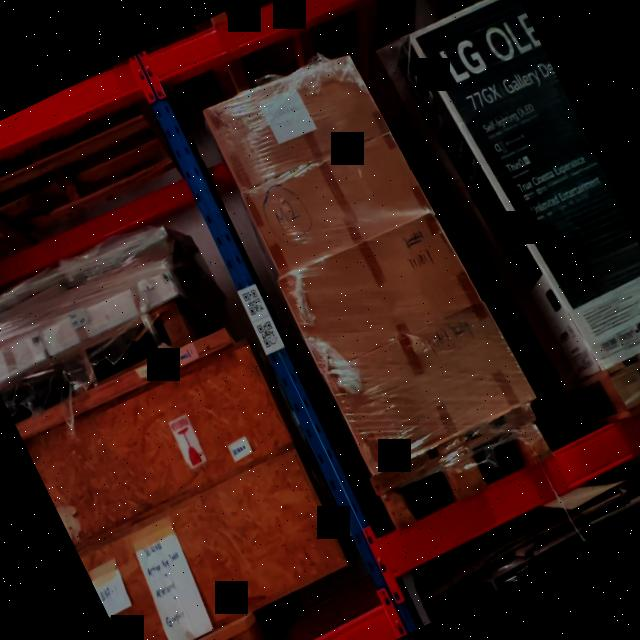box: (327, 300, 530, 475), (279, 212, 472, 372), (246, 132, 424, 273), (209, 54, 385, 196)
